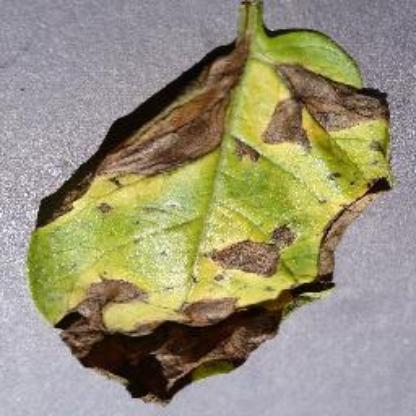Early-Blight: (29, 2, 404, 404)
